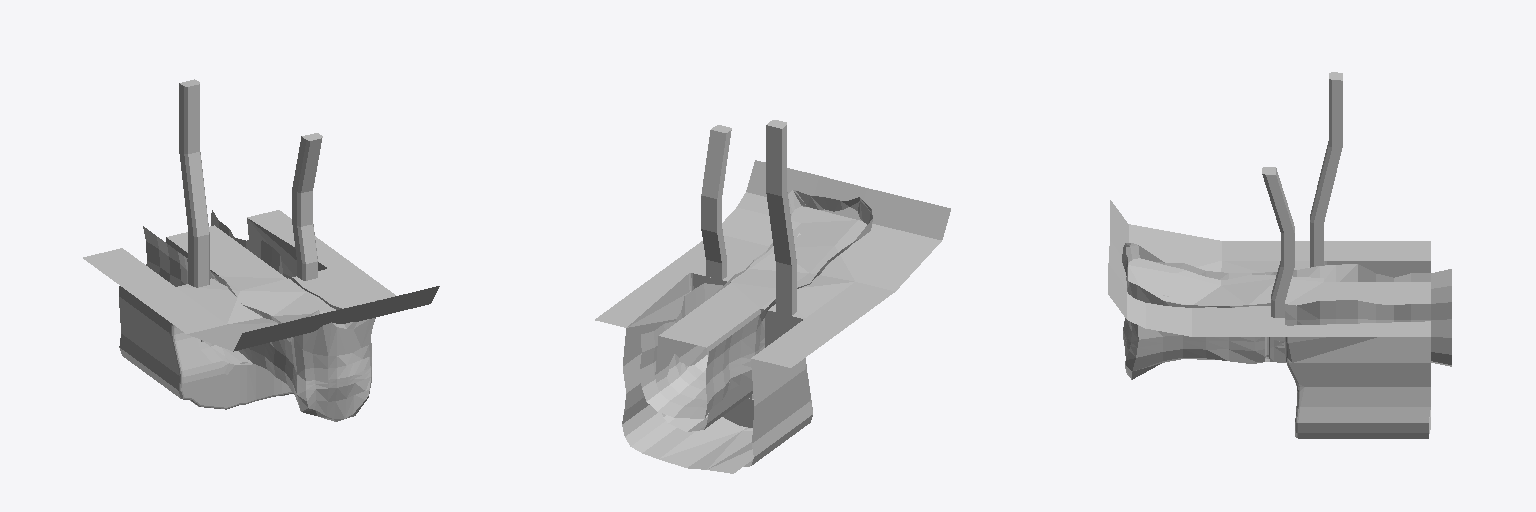
File: MapGeo.obj
3 views of the same model, side by side, from view 1: azimuth 30°, elevation 25°; view 2: azimuth 150°, elevation 25°; view 3: azimuth 270°, elevation 25° (orthographic).
Parts seen in each view (by area): view 1: Main, Pillar; view 2: Main, Pillar; view 3: Main, Pillar.
Boxes of the visible parts, <box> form: Main: <box>83,79,439,409</box>; Pillar: <box>143,210,378,421</box>; Main: <box>595,120,950,473</box>; Pillar: <box>640,190,872,418</box>; Main: <box>1108,72,1430,438</box>; Pillar: <box>1122,243,1451,379</box>.
Size of the model in its own units: 24460 by 38379 by 36863.